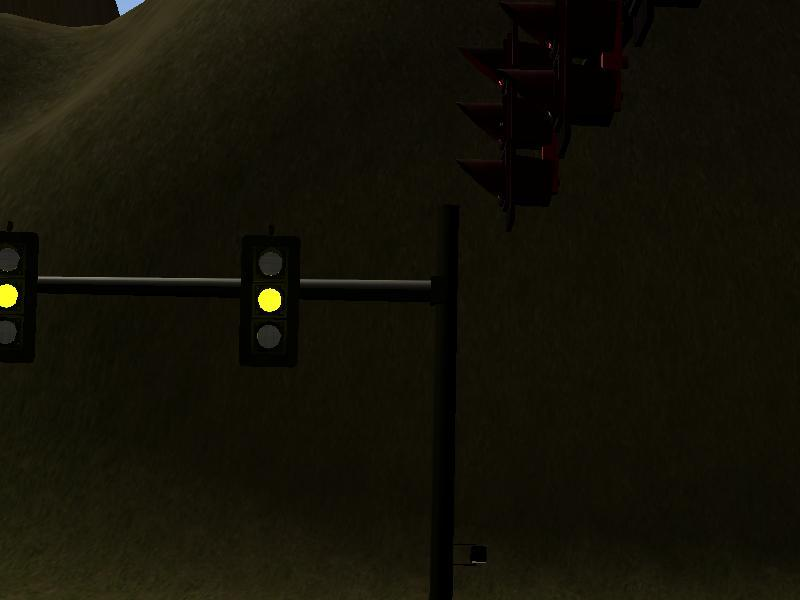Yellow: (239, 235, 301, 368), (1, 231, 38, 364)
